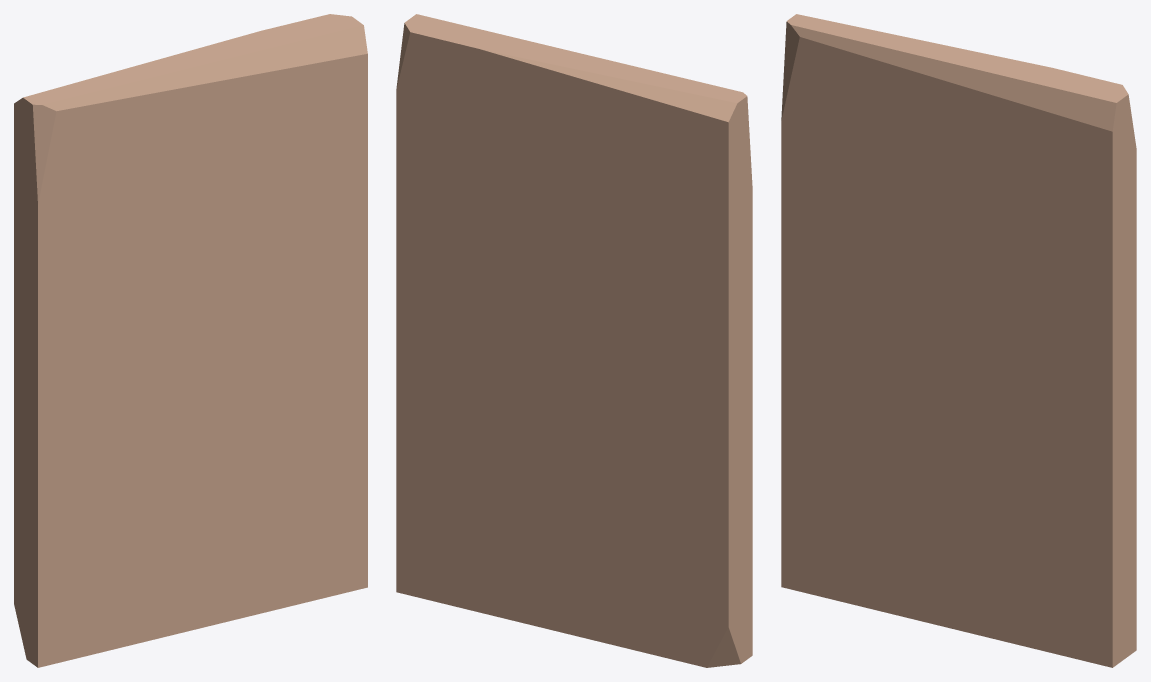
The model's file is wall_thin.gltf.
3 views of the same model, side by side, from view 1: azimuth 30°, elevation 25°; view 2: azimuth 150°, elevation 25°; view 3: azimuth 330°, elevation 25° (orthographic).
Parts seen in each view (by area): view 1: Wall thin; view 2: Wall thin; view 3: Wall thin.
Part boxes in pixels (bbox=[...]): Wall thin: bbox=[14, 14, 367, 667]; Wall thin: bbox=[396, 14, 752, 667]; Wall thin: bbox=[781, 14, 1136, 667].
Size of the model in its own units: 3.97 by 6.44 by 0.4995.
